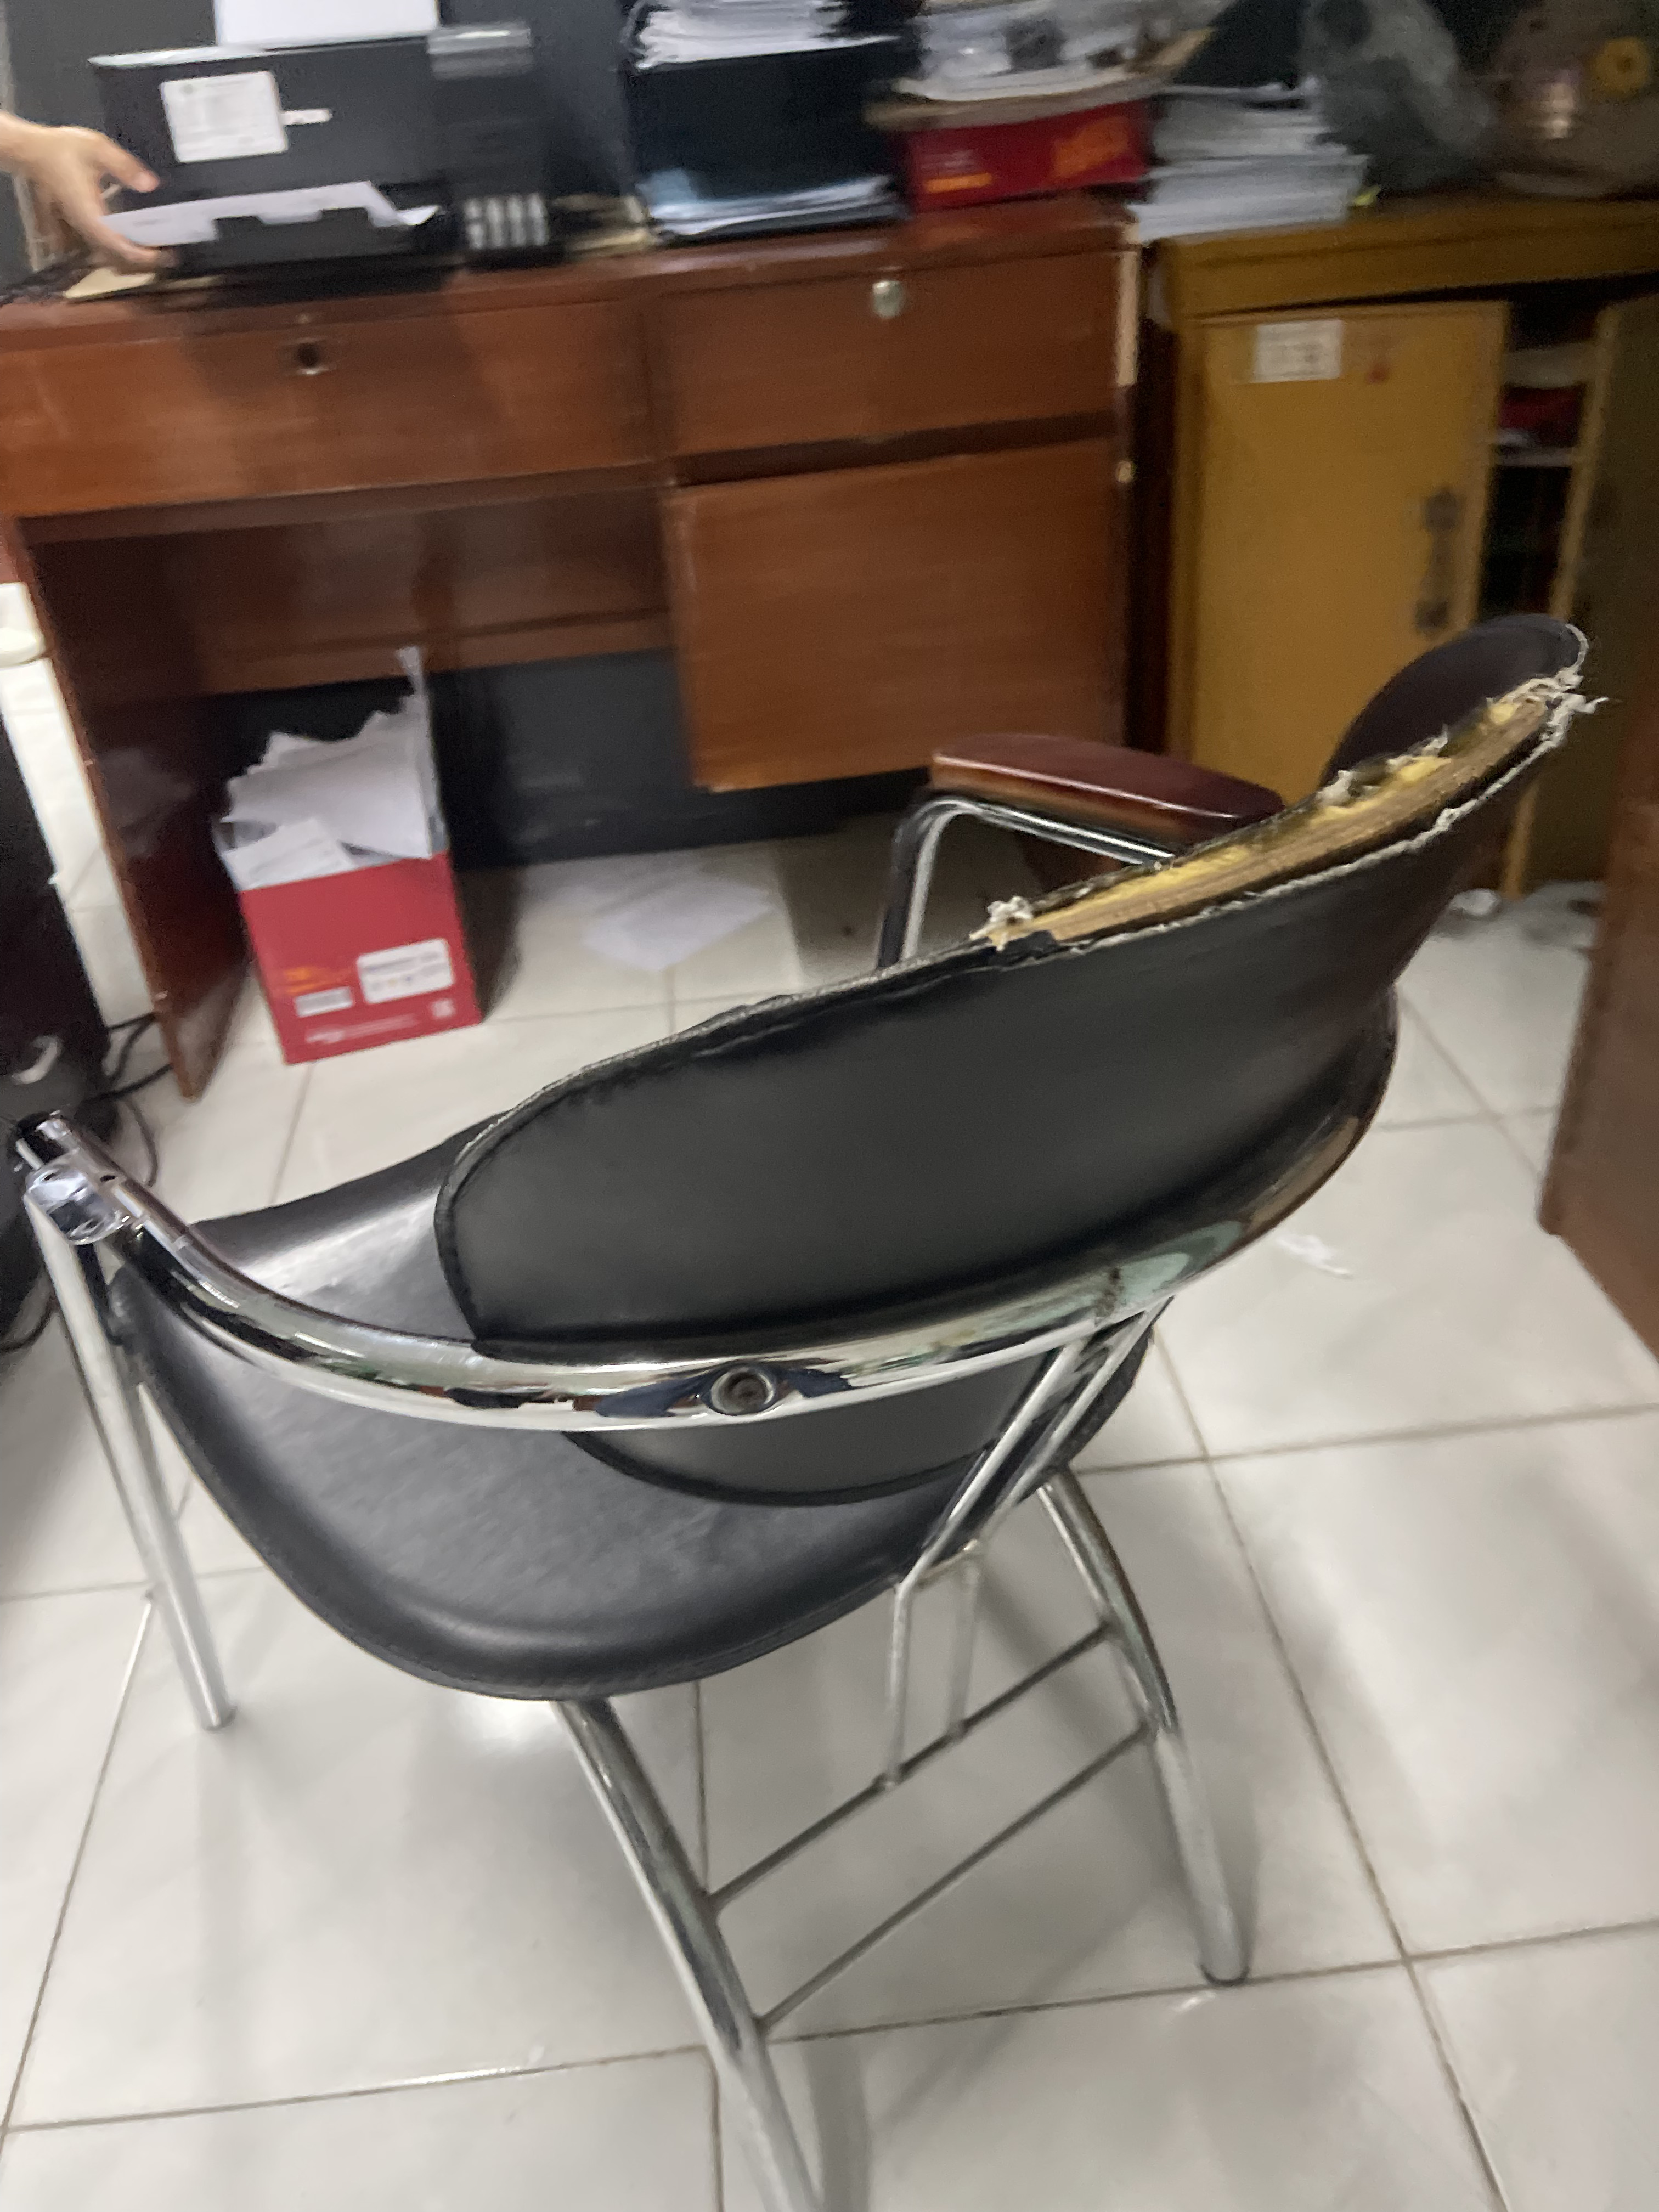chair1: (21, 610, 1589, 2212)
